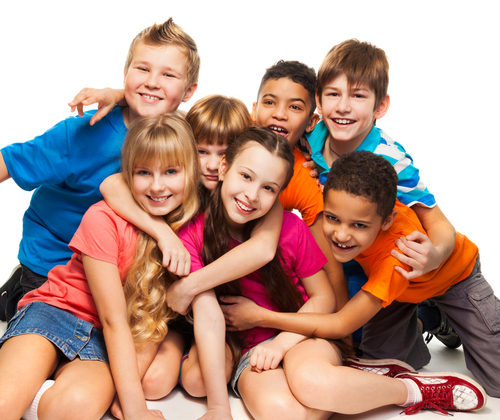human: (194, 128, 471, 420), (1, 98, 223, 420), (1, 4, 227, 300), (317, 138, 499, 377), (307, 31, 415, 165), (241, 56, 322, 149)
